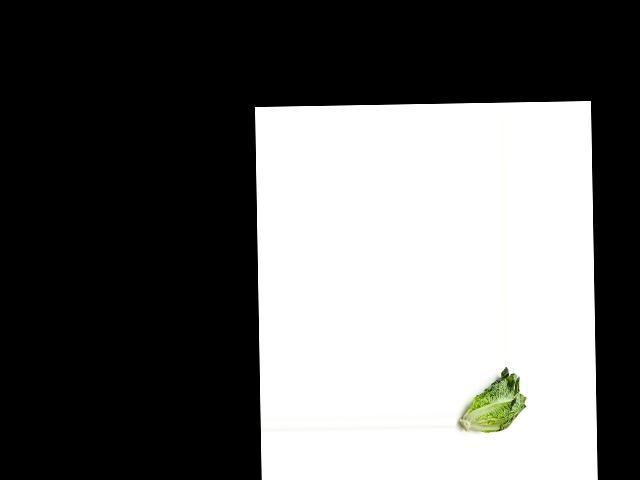lettuce: (460, 367, 529, 435)
